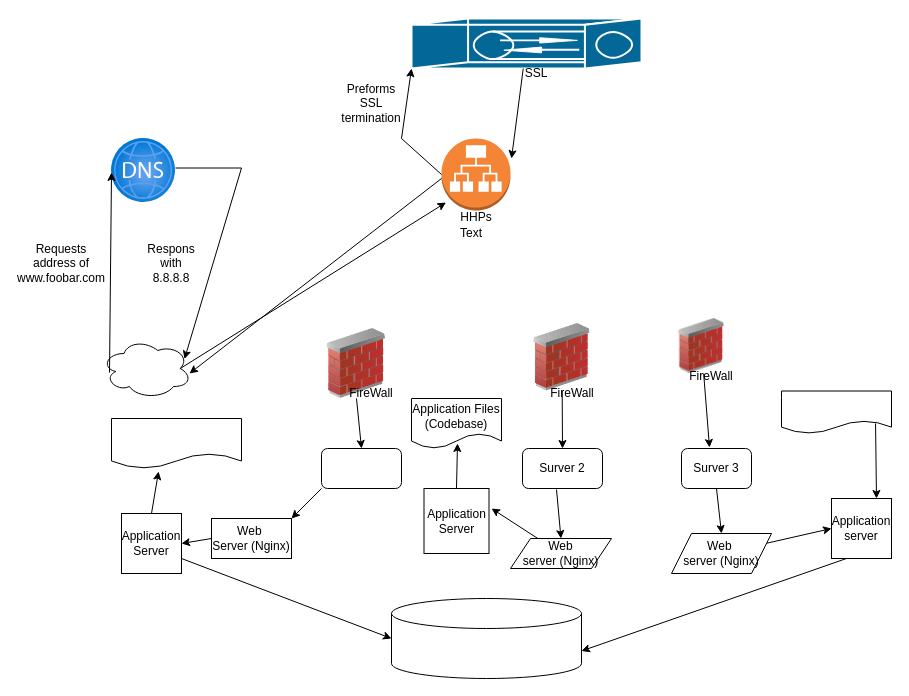
Image size: 909x696. Some labels were removed from this diagram. The box of each missing label's shape, as (x1, y1, x2, y2) in pixels:
Application (Codebase): (110, 418, 242, 468)
Application Flies (Codebase): (780, 390, 892, 434)
Database (MySQL): (390, 598, 582, 678)
Server 1: (320, 448, 402, 488)
User: (100, 338, 192, 398)
